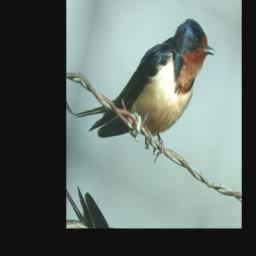Swallow: (72, 0, 219, 190)
